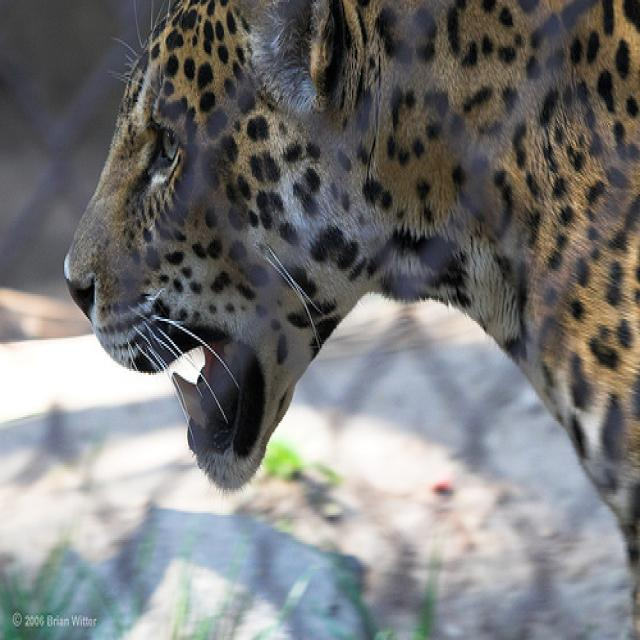Leopard: (60, 0, 638, 636)
